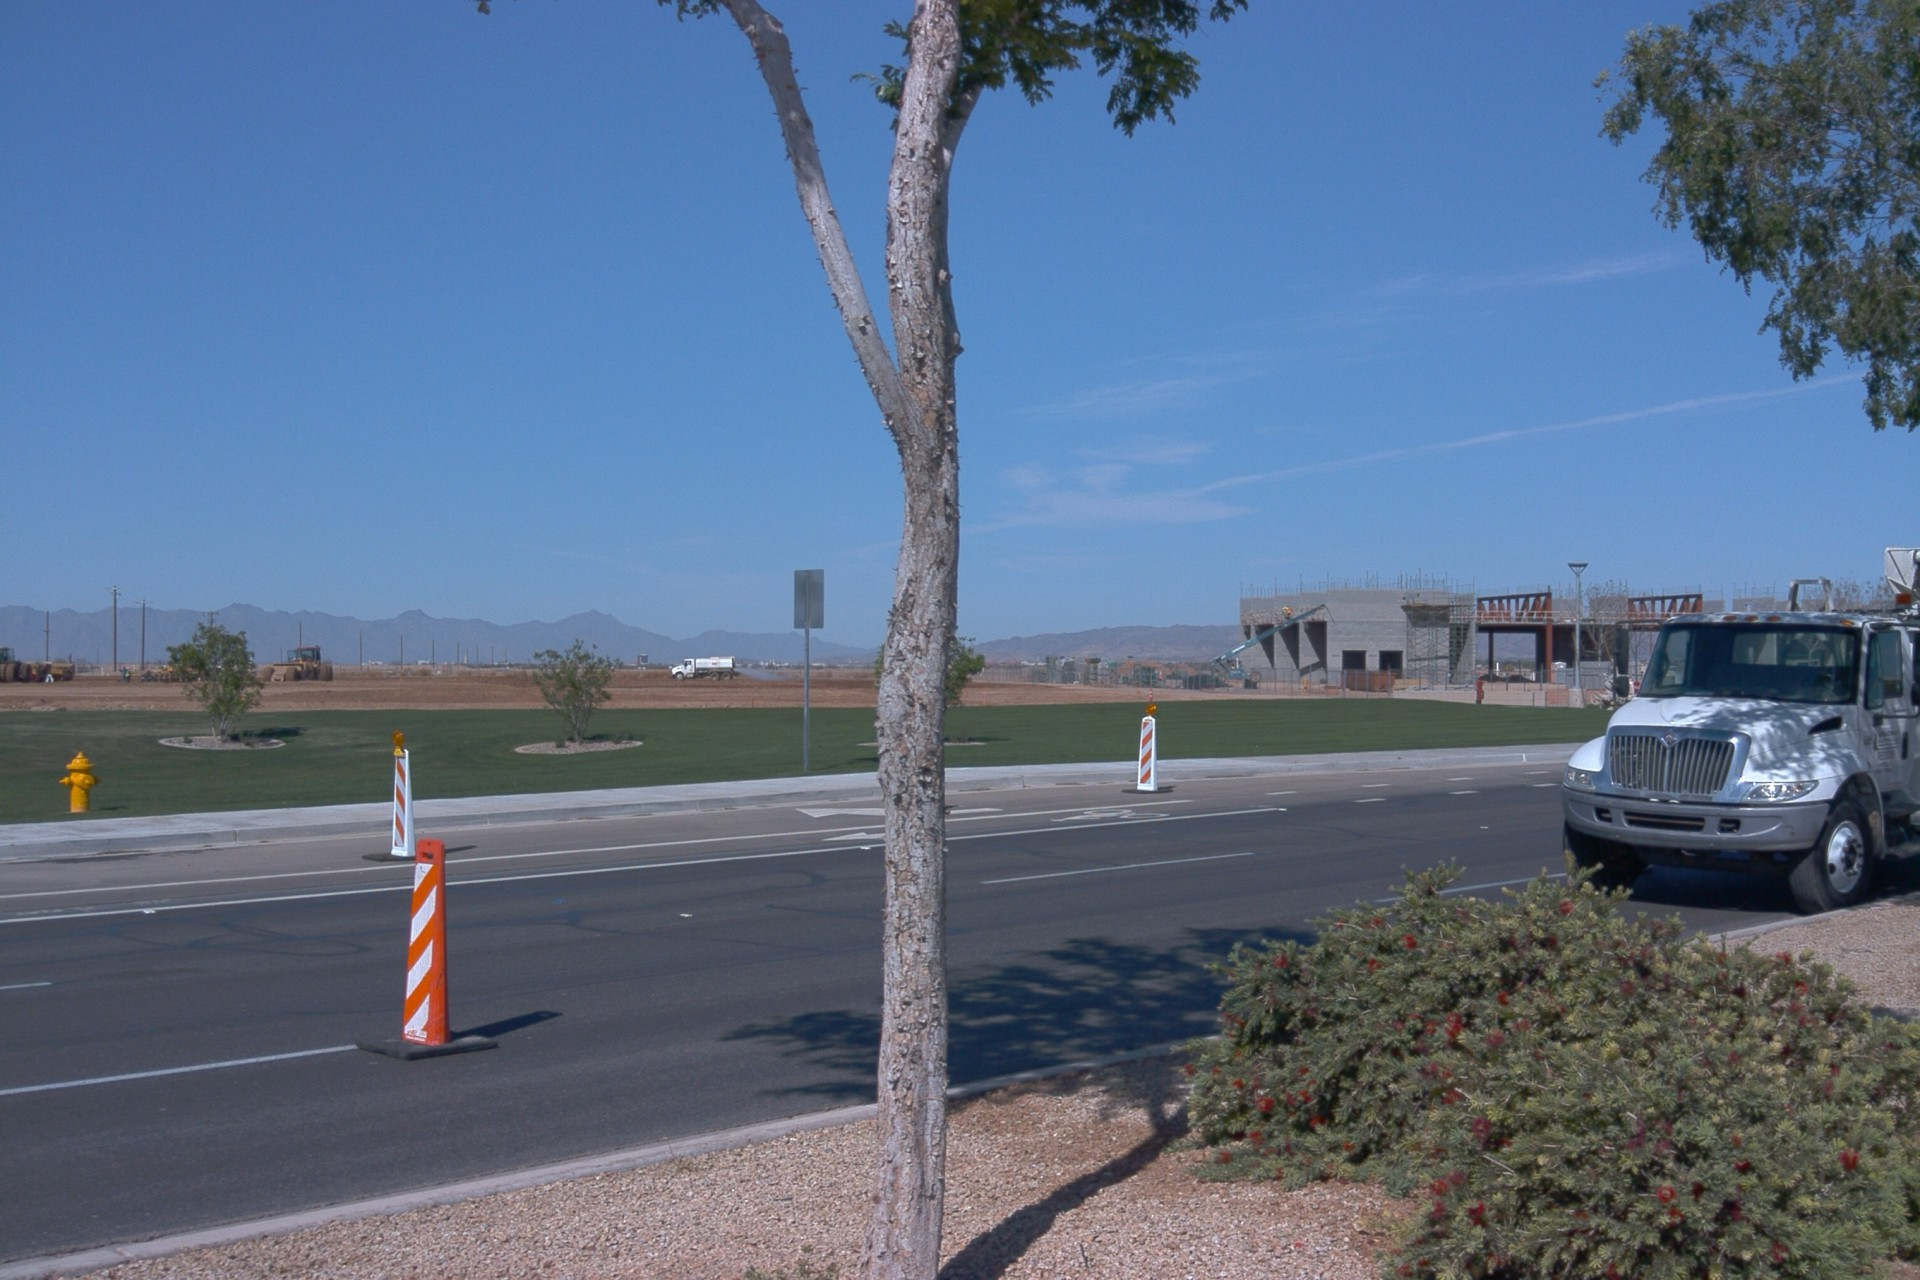TYPE_PEDESTRIAN: (123, 667, 132, 682)
TYPE_VEHICLE: (1561, 543, 1919, 916), (1210, 604, 1335, 683), (0, 645, 75, 686), (670, 652, 737, 686), (214, 665, 225, 670)
